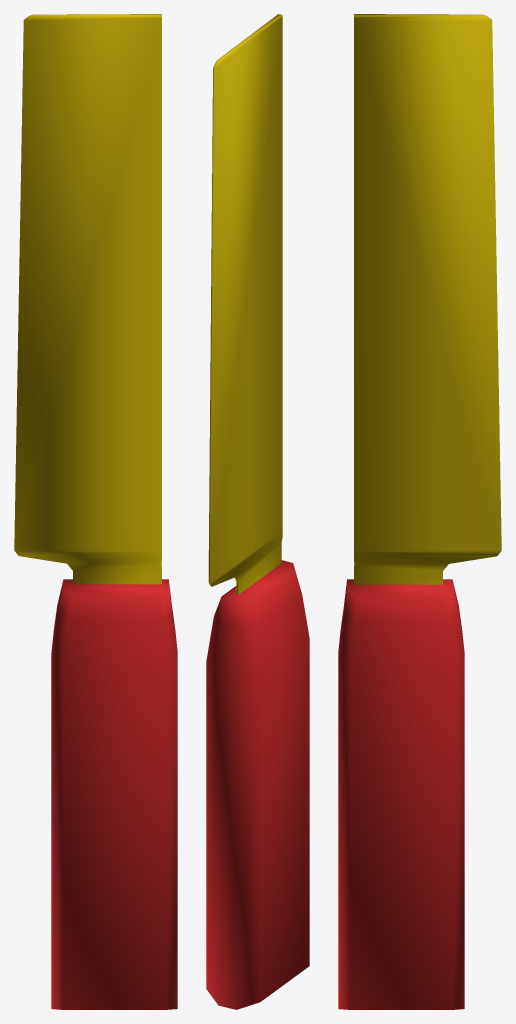
Rendered from MOD_PRO_Knife_02.fbx.
The picture shows the model from 3 angles, left to right: view 1: azimuth 90°, elevation 25°; view 2: azimuth 150°, elevation 25°; view 3: azimuth 270°, elevation 25°; orthographic projection. The views are drawn at different scales.
Parts seen in each view (by area): view 1: HSHP_MOD_Knife_02; view 2: HSHP_MOD_Knife_02; view 3: HSHP_MOD_Knife_02.
Part boxes in pixels (x1,y1,x2,y2): HSHP_MOD_Knife_02: (14,14,177,1009); HSHP_MOD_Knife_02: (206,14,309,1009); HSHP_MOD_Knife_02: (338,14,501,1009).
Bounding box in the file's own units: 0.0187 × 0.3165 × 0.0474.
